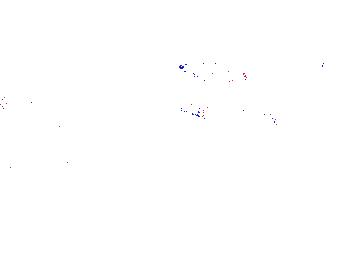X-ray fish: (287, 181, 323, 206)
glassfish: (179, 98, 287, 132), (1, 89, 73, 138)
red belly glassfish: (313, 47, 327, 68)
redtail glassfish: (178, 61, 252, 84)
